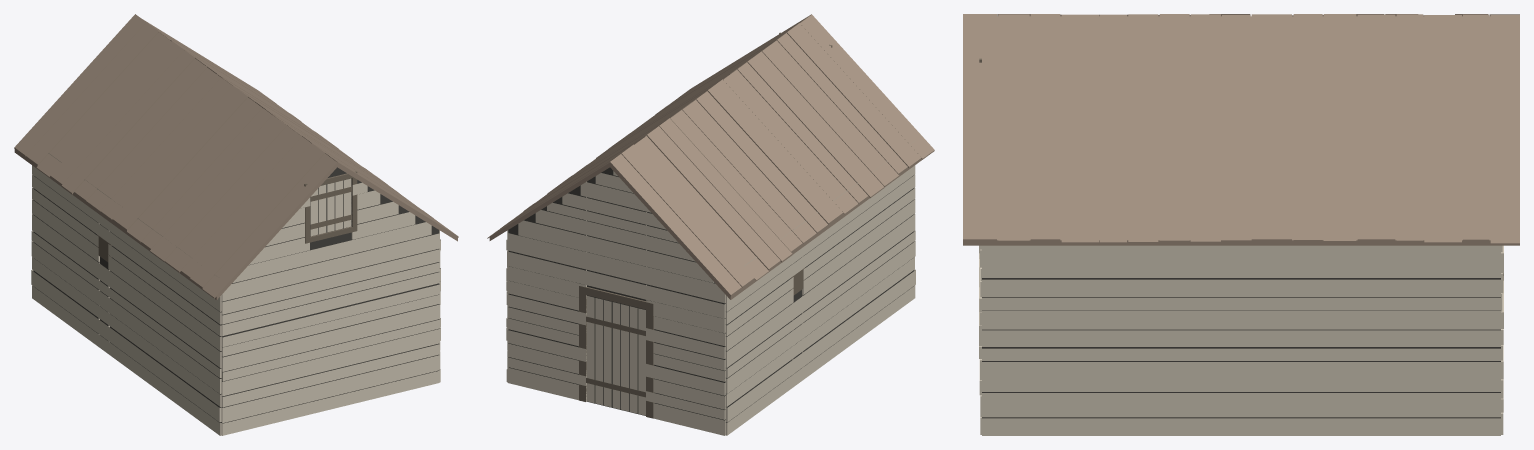
Rendered from recon_1835_west_010__inferred_1835.glb.
The picture shows the model from 3 angles, left to right: view 1: azimuth 30°, elevation 25°; view 2: azimuth 150°, elevation 25°; view 3: azimuth 270°, elevation 25°; orthographic projection. The views are drawn at different scales.
Visible parts, largest first — view 1: recon_1835_west_010__inferred_1835; view 2: recon_1835_west_010__inferred_1835; view 3: recon_1835_west_010__inferred_1835.
Part boxes in pixels (left/top/right/bottom): recon_1835_west_010__inferred_1835: left=14, top=14, right=458, bottom=435; recon_1835_west_010__inferred_1835: left=487, top=14, right=934, bottom=435; recon_1835_west_010__inferred_1835: left=963, top=14, right=1519, bottom=435.
Bounding box in the file's own units: 5.52 × 5.41 × 7.85.
